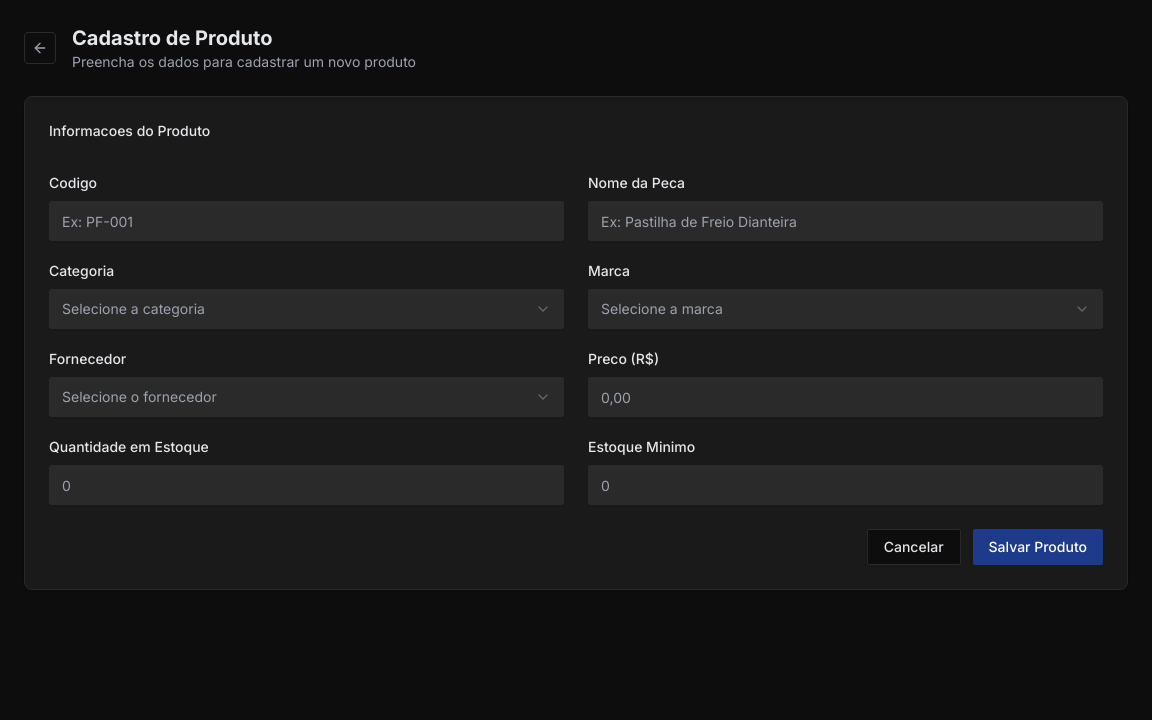
Test: ProductRegisterScreen › shows a validation message before sending incomplete data
Click the button "Salvar Produto". click: (1038, 547)
box: x1=973 y1=529 x2=1103 y2=565
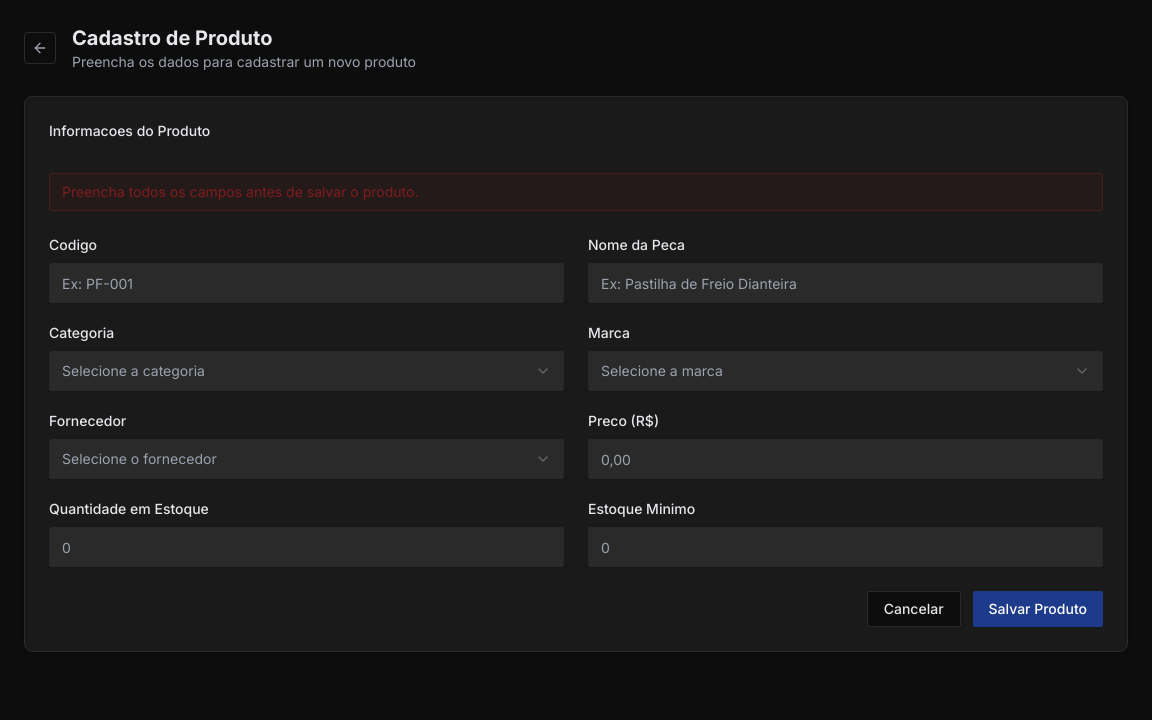
Expected: the message reads "Preencha todos os campos antes de salvar o produto.", x1=62 y1=183 x2=418 y2=200
